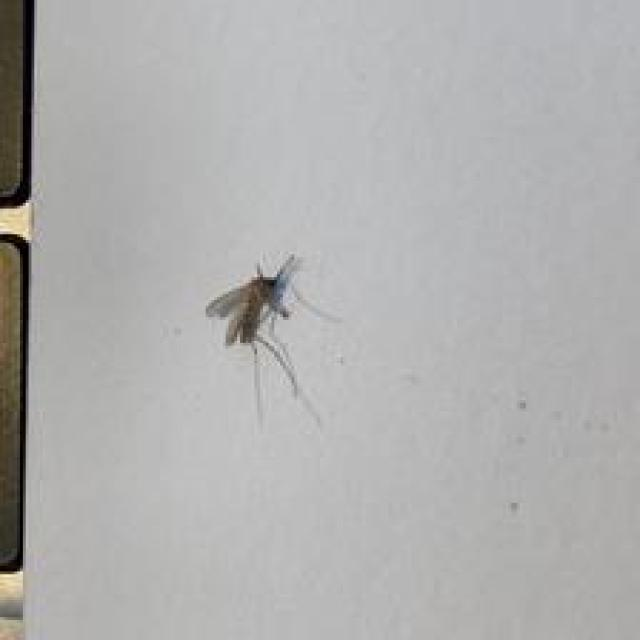Culex: (203, 252, 343, 428)
